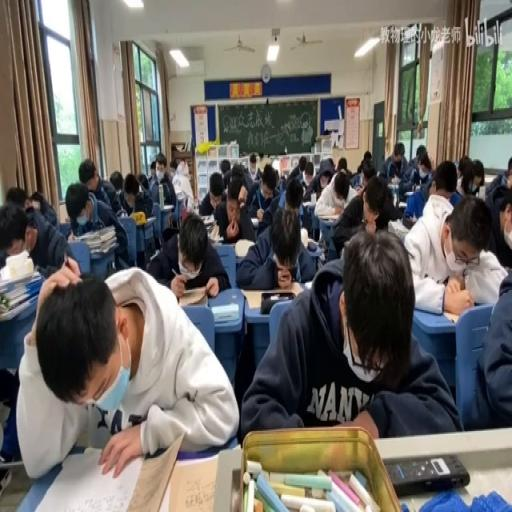calculator: (28, 432, 182, 510), (168, 452, 222, 512), (239, 284, 300, 308), (176, 283, 208, 306), (210, 300, 238, 322), (387, 216, 408, 238), (234, 236, 256, 256), (90, 244, 116, 258), (134, 213, 157, 226), (306, 240, 324, 256), (443, 310, 465, 323), (202, 220, 214, 234), (320, 212, 339, 219), (478, 184, 486, 200), (302, 199, 316, 208), (176, 189, 186, 201), (116, 209, 128, 218), (250, 214, 260, 224), (211, 234, 223, 242), (302, 280, 312, 289), (389, 176, 398, 185), (161, 204, 173, 210), (398, 199, 408, 206), (404, 191, 414, 196)
paper: (238, 229, 455, 441), (0, 189, 64, 457), (402, 186, 506, 314), (236, 200, 318, 288), (148, 206, 228, 296), (64, 178, 129, 274), (332, 171, 398, 259), (208, 176, 254, 244), (149, 152, 177, 225), (23, 186, 59, 229), (245, 163, 274, 212), (303, 158, 336, 200), (483, 157, 510, 199), (118, 172, 144, 215), (430, 158, 458, 195), (382, 142, 406, 181), (283, 176, 303, 212), (5, 183, 27, 205), (360, 162, 375, 188), (108, 170, 123, 194), (229, 163, 245, 185), (210, 176, 223, 199), (334, 181, 348, 202), (457, 154, 470, 176), (256, 152, 270, 172), (270, 158, 281, 180), (414, 145, 426, 165), (418, 160, 430, 178), (180, 205, 190, 226), (472, 159, 482, 179), (376, 155, 386, 174), (219, 158, 230, 175), (336, 155, 347, 171), (138, 172, 148, 189), (168, 158, 176, 179), (350, 174, 361, 188), (149, 159, 157, 178), (267, 181, 277, 196), (248, 160, 258, 174), (298, 155, 306, 171), (278, 174, 286, 189), (175, 162, 184, 175), (328, 156, 335, 170), (322, 174, 331, 184), (364, 151, 371, 162), (508, 155, 512, 174), (355, 164, 362, 174)
person: (386, 452, 470, 494), (284, 263, 297, 280)
